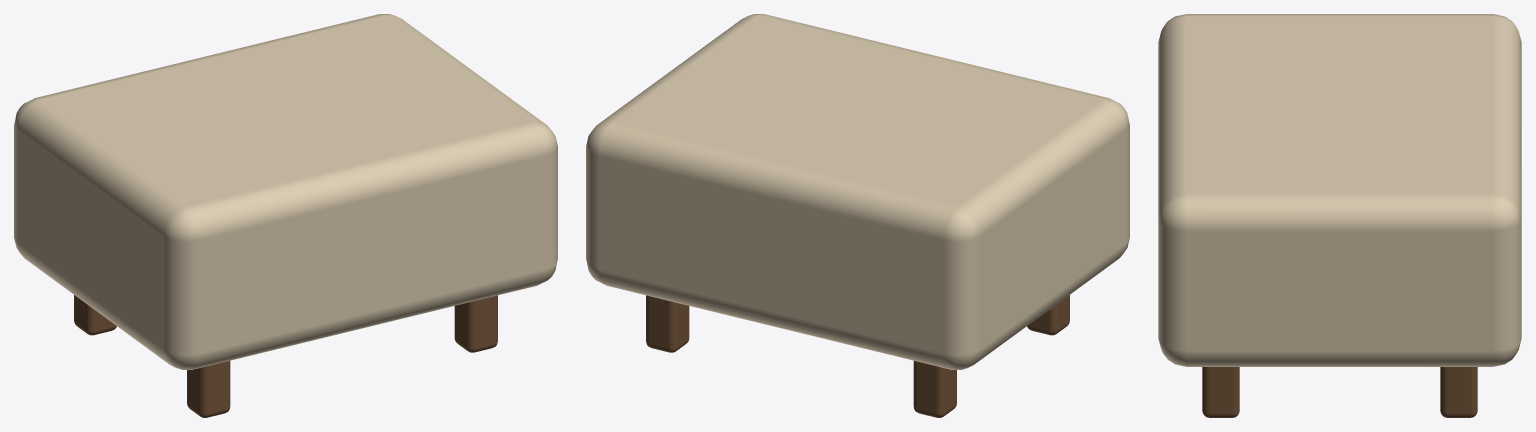
The model's file is drift-ottoman.glb.
3 views of the same model, side by side, from view 1: azimuth 30°, elevation 25°; view 2: azimuth 150°, elevation 25°; view 3: azimuth 270°, elevation 25° (orthographic). The views are drawn at different scales.
Parts seen in each view (by area): view 1: Cushion, Foot (×3); view 2: Cushion, Foot (×3); view 3: Cushion, Foot (×2).
Boxes of the visible parts, x1,y1,x2,y2 form: Cushion: (14, 14, 557, 369); Foot (×3): (74, 295, 497, 417); Cushion: (586, 14, 1129, 369); Foot (×3): (646, 295, 1069, 417); Cushion: (1158, 14, 1521, 366); Foot (×2): (1202, 367, 1477, 417).
Bounding box in the file's own units: 0.76 × 0.42 × 0.58.
